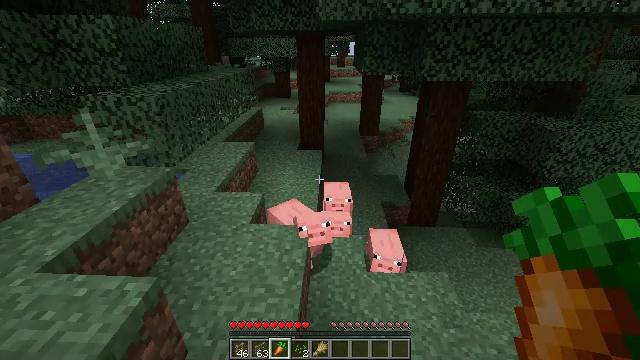pig: (266, 201, 330, 268), (368, 228, 407, 276), (323, 182, 353, 213), (321, 213, 353, 239)
